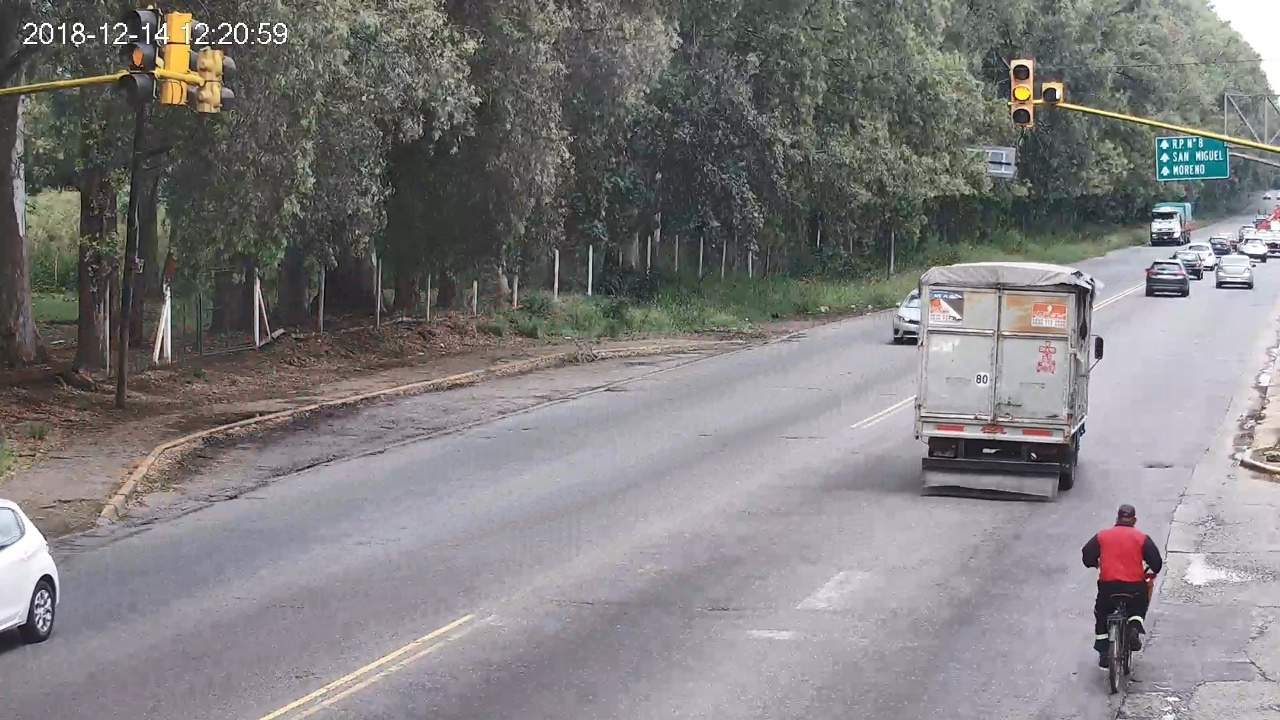bicycle: (1082, 503, 1162, 691)
traffic light: (1011, 59, 1034, 124)
truck: (916, 262, 1104, 499)
